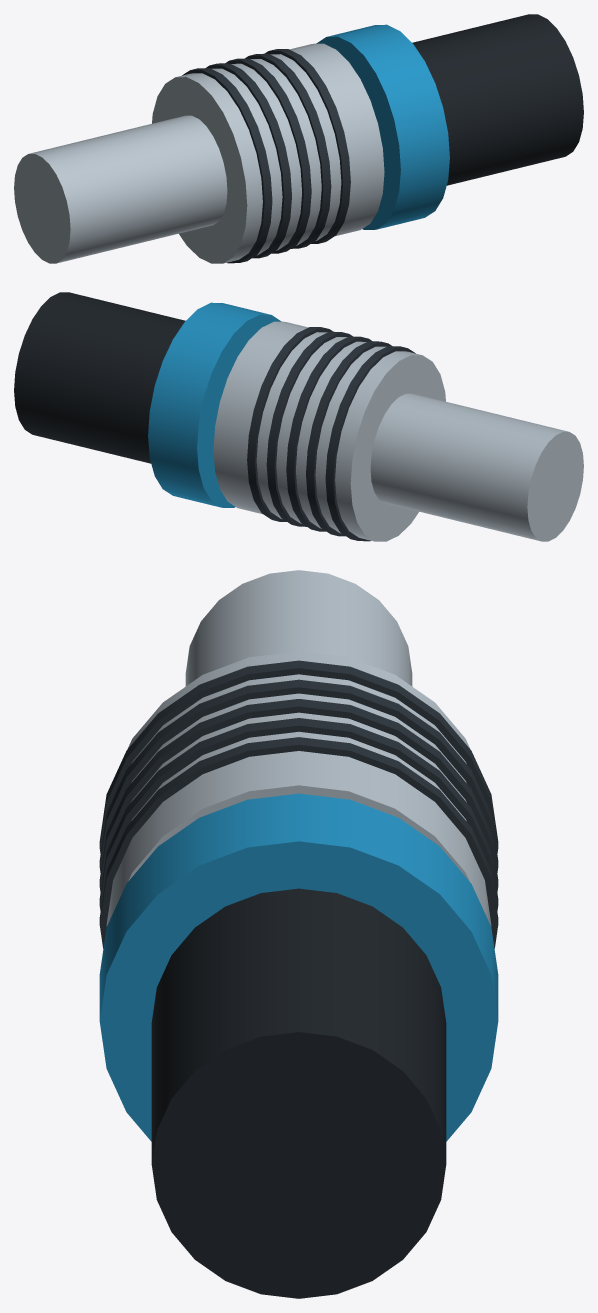
The model's file is SM_QD_Supply.glb.
3 views of the same model, one above another, from view 1: azimuth 30°, elevation 25°; view 2: azimuth 150°, elevation 25°; view 3: azimuth 270°, elevation 25° (orthographic). The views are drawn at different scales.
Parts seen in each view (by area): view 1: SM_QD_Supply; view 2: SM_QD_Supply; view 3: SM_QD_Supply.
Boxes of the visible parts, left/top/right/bottom form: SM_QD_Supply: left=14, top=14, right=583, bottom=263; SM_QD_Supply: left=14, top=292, right=583, bottom=541; SM_QD_Supply: left=99, top=570, right=498, bottom=1298.
Size of the model in its own units: 0.0515 by 0.0176 by 0.0176.
